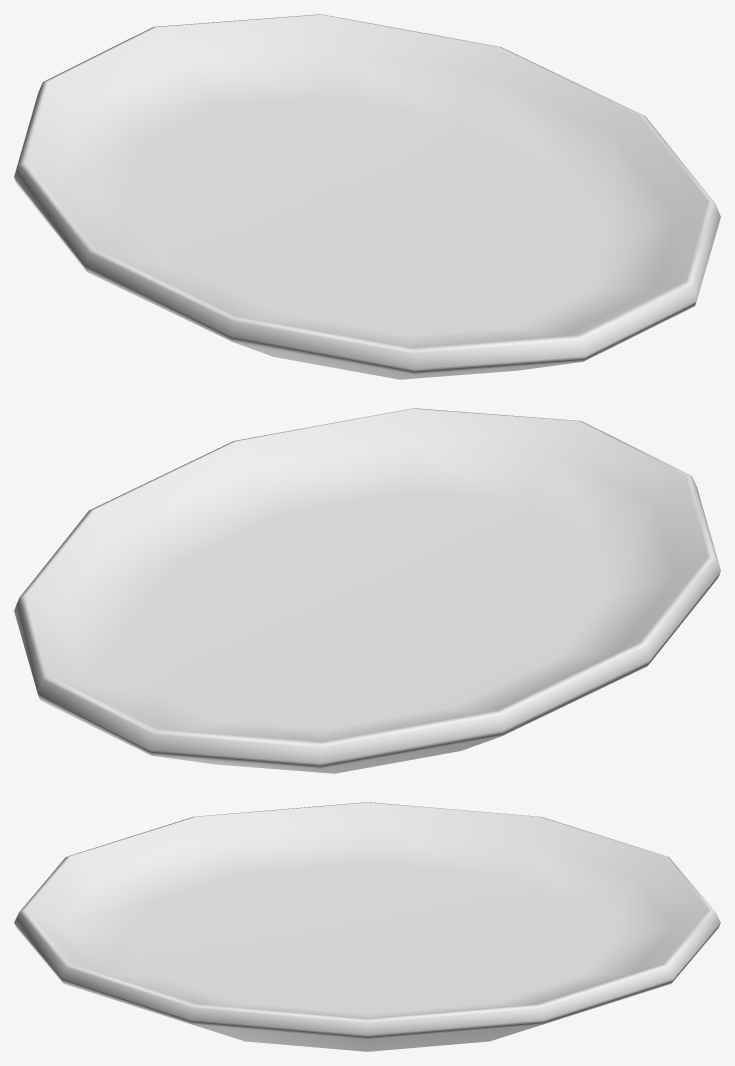
File: prop_071.fbx
3 renders of one model, top to bottom at view 1: azimuth 30°, elevation 25°; view 2: azimuth 150°, elevation 25°; view 3: azimuth 270°, elevation 25°, orthographic. The views are drawn at different scales.
Visible parts, largest first — view 1: prop_071; view 2: prop_071; view 3: prop_071.
Boxes of the visible parts, x1,y1,x2,y2 form: prop_071: (14,14,720,379); prop_071: (14,408,720,773); prop_071: (14,802,720,1051).
Size of the model in its own units: 35.45 by 47.25 by 4.76.
